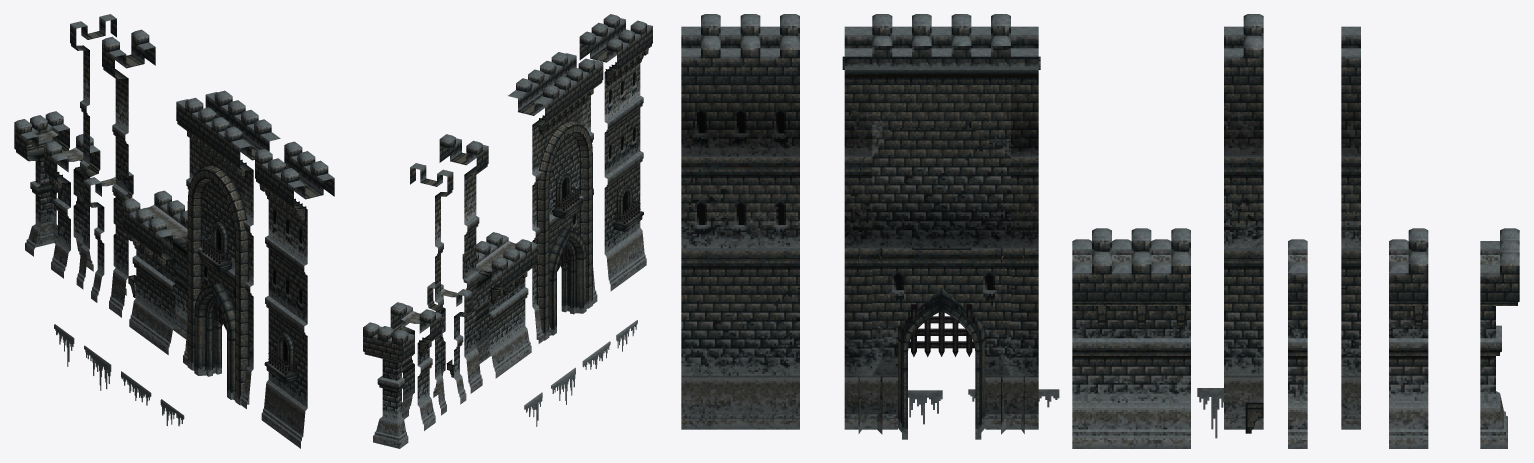
File: EnvMdrMD_Snow_B_Jail_Wall_A_End.FBX
The picture shows the model from 3 angles, left to right: view 1: azimuth 30°, elevation 25°; view 2: azimuth 150°, elevation 25°; view 3: azimuth 270°, elevation 25°; orthographic projection. The views are drawn at different scales.
Parts seen in each view (by area): view 1: EnvMdrMD_Snow_B_Jail_Wall_B, EnvMdrMD_Snow_B_Jail_Wall_A_Loop, EnvMdrMD_Snow_B_Jail_Wall_C_Loop, EnvMdrMD_Snow_B_Jail_Wall_A_End, EnvMdrMD_Snow_B_Jail_Wall_C_Start_B, EnvMdrMD_Snow_B_Jail_Wall_C_End, EnvMdrMD_Snow_B_Jail_Wall_A_Start, EnvMdrMD_Snow_B_Jail_Wall_C_Start, EnvMdrMD_Snow_B_Tsurara_A, EnvMdrMD_Snow_B_Tsurara_C; view 2: EnvMdrMD_Snow_B_Jail_Wall_B, EnvMdrMD_Snow_B_Jail_Wall_A_Loop, EnvMdrMD_Snow_B_Jail_Wall_C_Loop, EnvMdrMD_Snow_B_Jail_Wall_A_End, EnvMdrMD_Snow_B_Jail_Wall_C_Start_B, EnvMdrMD_Snow_B_Jail_Wall_C_End, EnvMdrMD_Snow_B_Jail_Wall_A_Start, EnvMdrMD_Snow_B_Jail_Wall_C_Start, EnvMdrMD_Snow_B_Tsurara_A, EnvMdrMD_Snow_B_Tsurara_C; view 3: EnvMdrMD_Snow_B_Jail_Wall_B, EnvMdrMD_Snow_B_Jail_Wall_A_Loop, EnvMdrMD_Snow_B_Jail_Wall_C_Loop, EnvMdrMD_Snow_B_Jail_Wall_A_End, EnvMdrMD_Snow_B_Jail_Wall_C_End, EnvMdrMD_Snow_B_Jail_Wall_A_Start, EnvMdrMD_Snow_B_Jail_Wall_C_Start_B, EnvMdrMD_Snow_B_Jail_Wall_C_Start.
Part boxes in pixels (x1,y1,x2,y2): EnvMdrMD_Snow_B_Jail_Wall_B: [176, 90, 280, 408]; EnvMdrMD_Snow_B_Jail_Wall_A_Loop: [255, 141, 334, 448]; EnvMdrMD_Snow_B_Jail_Wall_C_Loop: [122, 190, 187, 354]; EnvMdrMD_Snow_B_Jail_Wall_A_End: [102, 29, 155, 317]; EnvMdrMD_Snow_B_Jail_Wall_C_Start_B: [14, 111, 69, 256]; EnvMdrMD_Snow_B_Jail_Wall_C_End: [44, 134, 100, 278]; EnvMdrMD_Snow_B_Jail_Wall_A_Start: [70, 14, 116, 289]; EnvMdrMD_Snow_B_Jail_Wall_C_Start: [84, 171, 133, 302]; EnvMdrMD_Snow_B_Tsurara_A: [84, 345, 111, 390]; EnvMdrMD_Snow_B_Tsurara_C: [121, 371, 151, 405]; EnvMdrMD_Snow_B_Jail_Wall_B: [508, 52, 603, 343]; EnvMdrMD_Snow_B_Jail_Wall_A_Loop: [579, 14, 652, 291]; EnvMdrMD_Snow_B_Jail_Wall_C_Loop: [462, 232, 537, 378]; EnvMdrMD_Snow_B_Jail_Wall_A_End: [439, 134, 488, 393]; EnvMdrMD_Snow_B_Jail_Wall_C_Start_B: [363, 322, 414, 448]; EnvMdrMD_Snow_B_Jail_Wall_C_End: [390, 302, 441, 430]; EnvMdrMD_Snow_B_Jail_Wall_A_Start: [410, 163, 453, 415]; EnvMdrMD_Snow_B_Jail_Wall_C_Start: [427, 282, 472, 404]; EnvMdrMD_Snow_B_Tsurara_A: [551, 367, 575, 404]; EnvMdrMD_Snow_B_Tsurara_C: [582, 341, 610, 369]; EnvMdrMD_Snow_B_Jail_Wall_B: [842, 14, 1040, 439]; EnvMdrMD_Snow_B_Jail_Wall_A_Loop: [681, 14, 799, 429]; EnvMdrMD_Snow_B_Jail_Wall_C_Loop: [1072, 228, 1190, 448]; EnvMdrMD_Snow_B_Jail_Wall_A_End: [1224, 14, 1263, 433]; EnvMdrMD_Snow_B_Jail_Wall_C_End: [1389, 228, 1428, 448]; EnvMdrMD_Snow_B_Jail_Wall_A_Start: [1341, 26, 1360, 429]; EnvMdrMD_Snow_B_Jail_Wall_C_Start_B: [1480, 228, 1519, 448]; EnvMdrMD_Snow_B_Jail_Wall_C_Start: [1288, 239, 1307, 448].
Size of the model in its own units: 402 by 1290 by 2119.
1 material, 1 textured.
